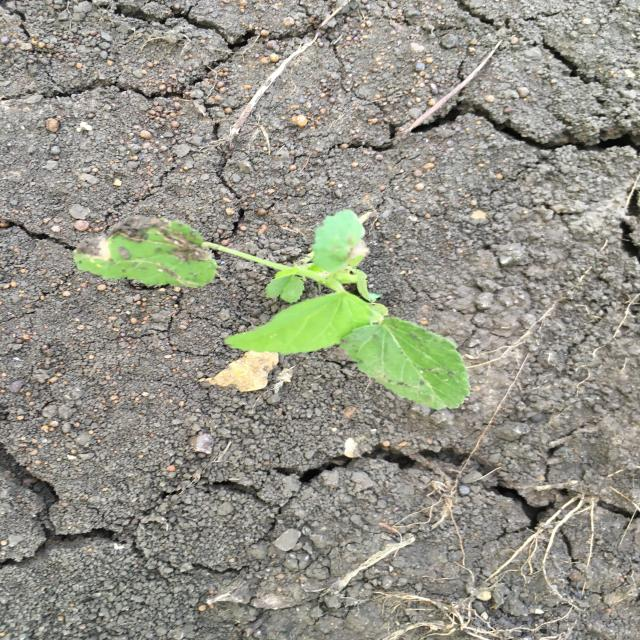PricklySida: (71, 206, 475, 414)
